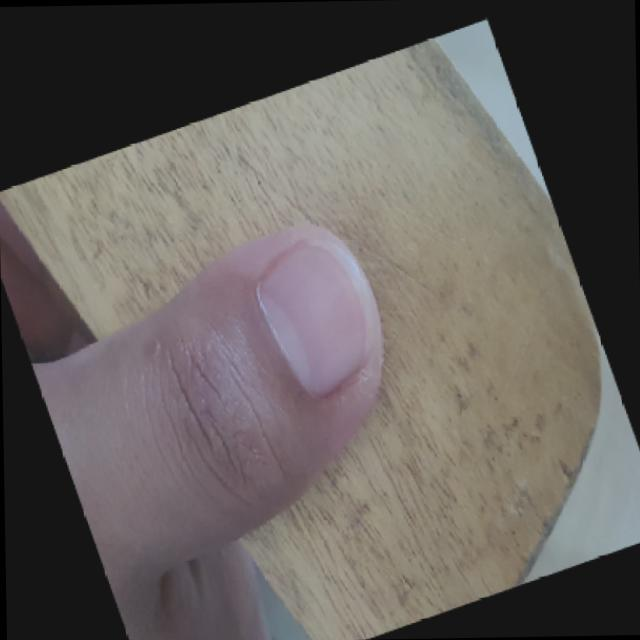Nail: (254, 232, 378, 398)
